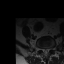CCS_normal: (44, 46, 47, 55)
LFS_stenosis: (49, 46, 51, 52)
LLS_normal: (47, 47, 49, 54)
RFS_stenosis: (40, 46, 42, 52)
RLS_normal: (42, 47, 44, 53)
